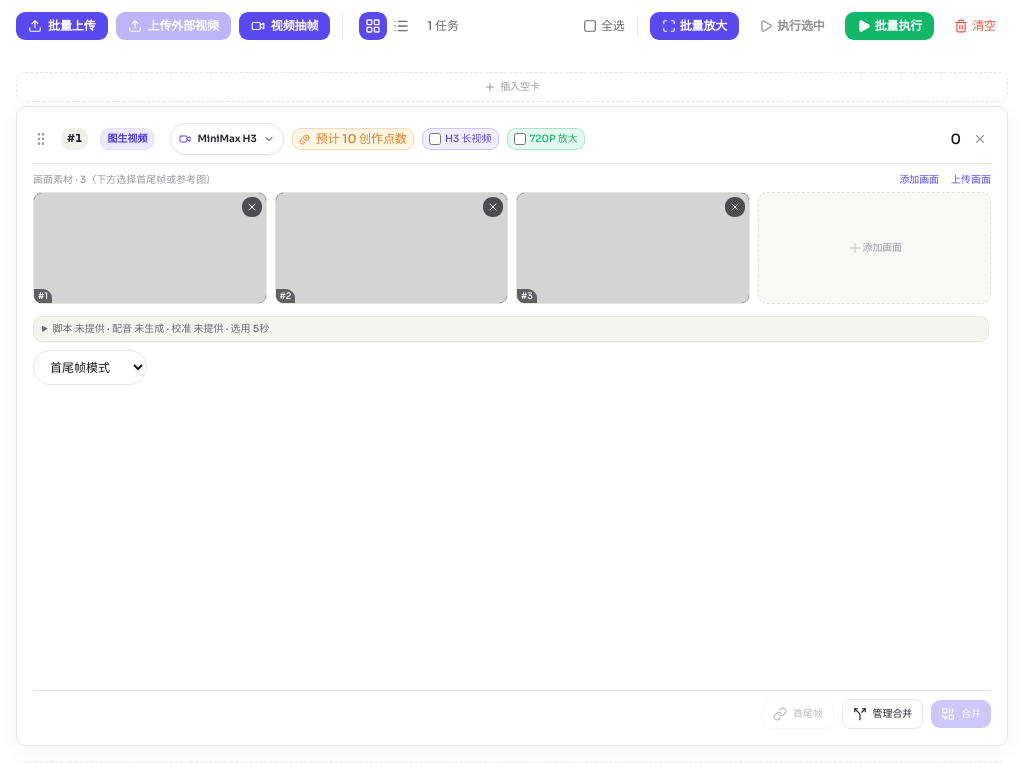
it: VideoPage Hailuo frame submission › can remove both original images of an H3 merged card without removing the card or its extra reference
Click the button named "移除画面1": (252, 207) [242, 197, 262, 217]
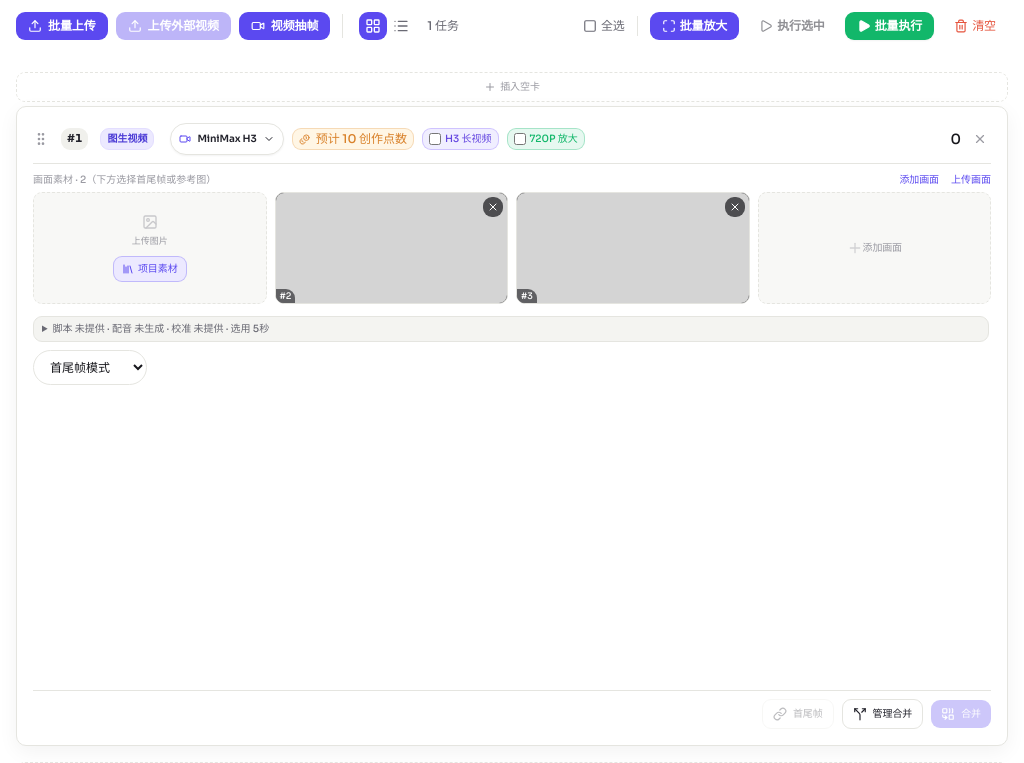
Click the button named "移除画面2": (493, 207) [483, 197, 503, 217]
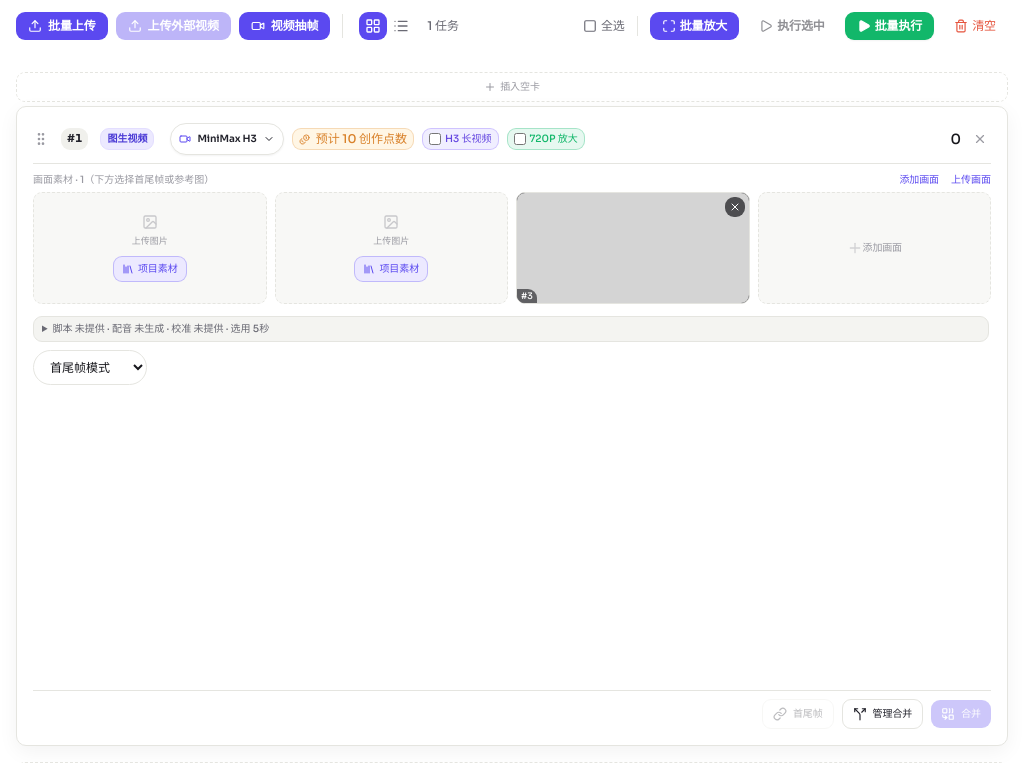
Expected: the number of buttons "项目素材" is 2, [113, 256, 186, 282]; [354, 256, 428, 282]
